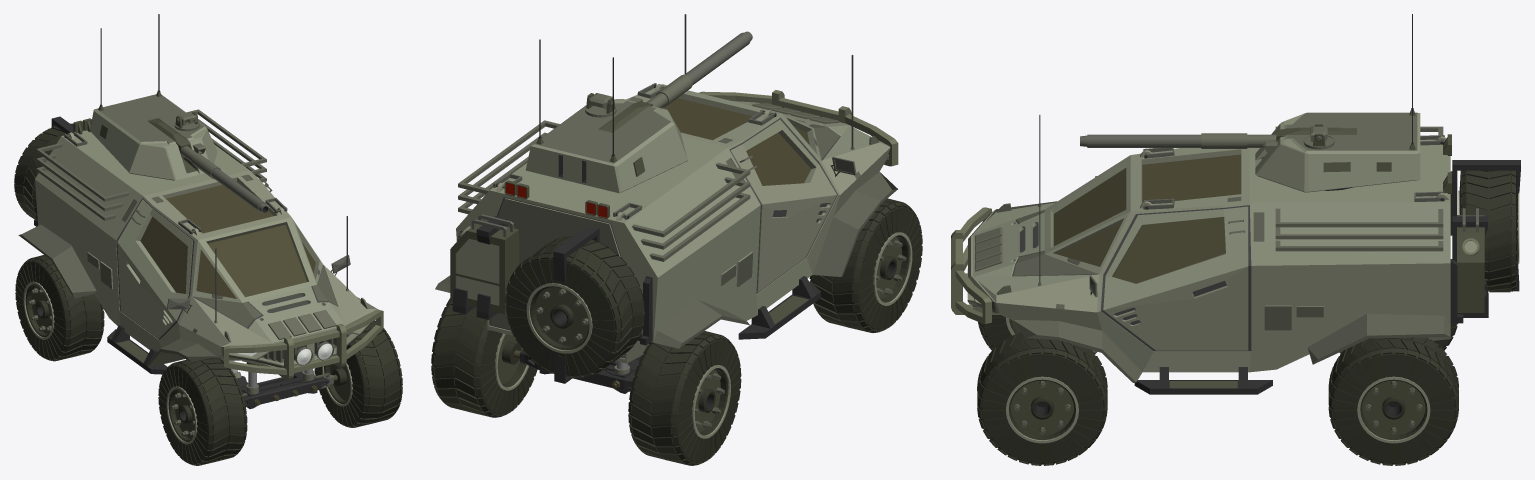
The model's file is foxter_buggy_low_ploy_concept.glb.
3 views of the same model, side by side, from view 1: azimuth 30°, elevation 25°; view 2: azimuth 150°, elevation 25°; view 3: azimuth 270°, elevation 25° (orthographic). The views are drawn at different scales.
Visible parts, largest first — view 1: Cube, Cylinder.056, Cube.003, Cylinder.005, Cylinder, Cube.002, Cube.006, Cylinder.002, Cube.012, Cylinder.007, Cube.001, Cube.018 (+3 smaller); view 2: Cube, Cylinder.002, Cylinder.005, Cube.003, Cylinder.056, Cylinder.054, Cube.006, Cube.008, Cube.005, Cube.002, Cube.001, Cylinder.007 (+4 smaller); view 3: Cube, Cylinder.054, Cylinder, Cube.003, Cylinder.002, Cube.006, Cylinder.007, Cube.005, Cube.002, Cube.008, Cube.001, Cube.018 (+1 smaller).
Part boxes in pixels (bbox=[...]): Cube: bbox=[18, 130, 377, 367]; Cylinder.056: bbox=[158, 357, 247, 465]; Cube.003: bbox=[90, 94, 217, 180]; Cylinder.005: bbox=[15, 255, 104, 361]; Cylinder: bbox=[314, 320, 402, 427]; Cube.002: bbox=[224, 309, 383, 380]; Cube.006: bbox=[36, 109, 266, 220]; Cylinder.002: bbox=[14, 123, 83, 219]; Cube.012: bbox=[236, 371, 329, 408]; Cylinder.007: bbox=[181, 146, 268, 213]; Cube.001: bbox=[107, 325, 167, 374]; Cube.018: bbox=[268, 310, 336, 339]; Cube: bbox=[435, 84, 897, 363]; Cylinder.002: bbox=[505, 236, 644, 378]; Cylinder.005: bbox=[628, 331, 741, 465]; Cube.003: bbox=[525, 99, 687, 193]; Cylinder.056: bbox=[809, 198, 922, 332]; Cylinder.054: bbox=[431, 298, 537, 417]; Cube.006: bbox=[458, 120, 750, 261]; Cube.008: bbox=[450, 220, 518, 314]; Cube.005: bbox=[452, 216, 652, 383]; Cube.002: bbox=[698, 90, 898, 166]; Cube.001: bbox=[738, 276, 820, 339]; Cylinder.007: bbox=[646, 31, 752, 108]; Cube: bbox=[967, 139, 1450, 382]; Cylinder.054: bbox=[1328, 337, 1458, 465]; Cylinder: bbox=[977, 332, 1107, 465]; Cube.003: bbox=[1255, 112, 1420, 192]; Cylinder.002: bbox=[1458, 170, 1519, 292]; Cube.006: bbox=[1275, 126, 1443, 251]; Cylinder.007: bbox=[1080, 133, 1276, 148]; Cube.005: bbox=[1450, 160, 1520, 323]; Cube.002: bbox=[951, 207, 1000, 323]; Cube.008: bbox=[1457, 215, 1484, 312]; Cube.001: bbox=[1134, 367, 1272, 394]; Cube.018: bbox=[975, 227, 1002, 271].
Bounding box in the file's own units: 1.09 × 1.62 × 2.21.
